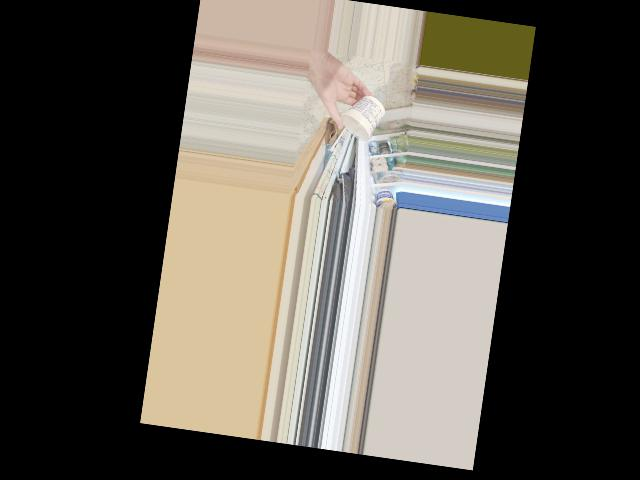cotage: (340, 93, 385, 143)
